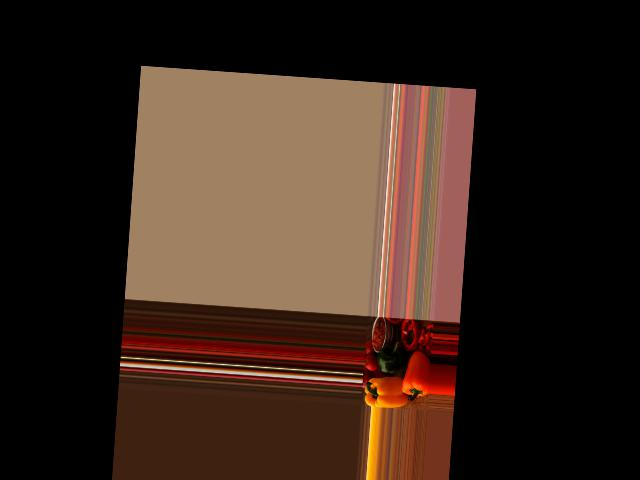bell_pepper: (364, 374, 401, 408)
